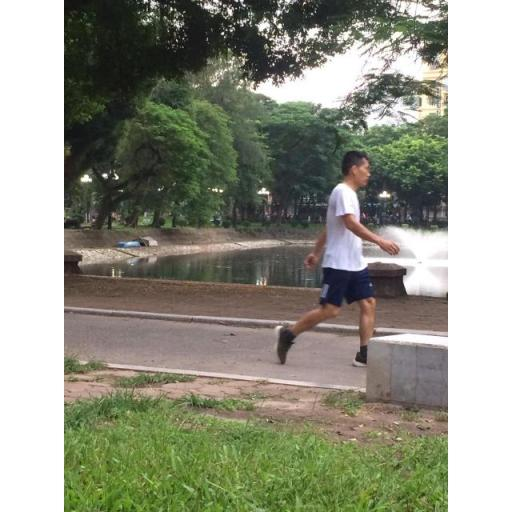Running: (266, 146, 390, 370)
